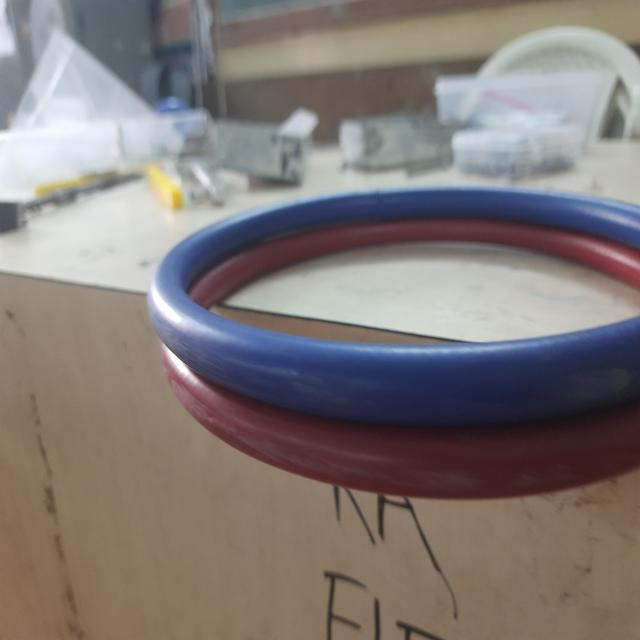daire: (206, 339, 632, 416), (195, 431, 630, 495)
